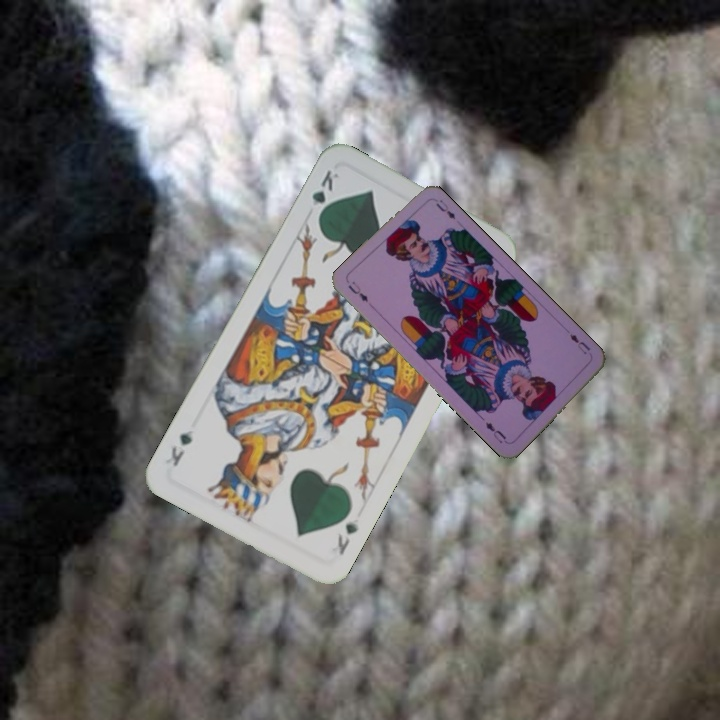EU: (344, 277, 371, 305), (566, 330, 593, 357)
GK: (308, 165, 342, 222), (333, 518, 361, 558)
